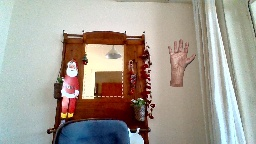Mano_aperta: (167, 38, 197, 68)
